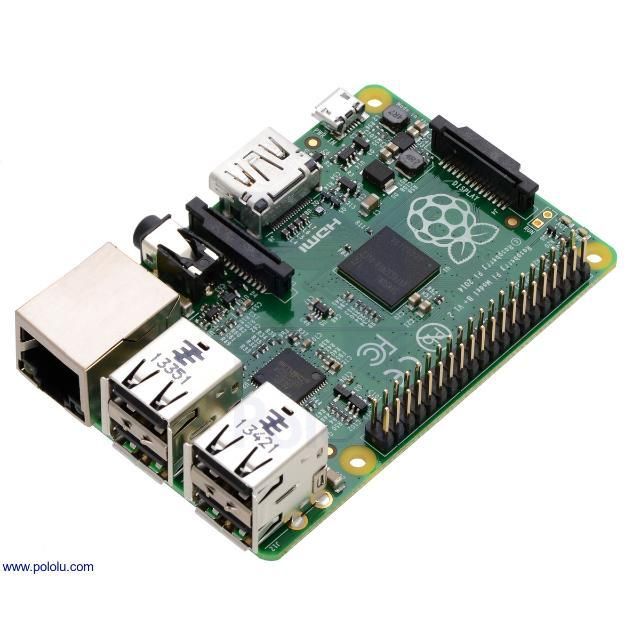Raspberry Pi 1 B-: (17, 87, 616, 558)
